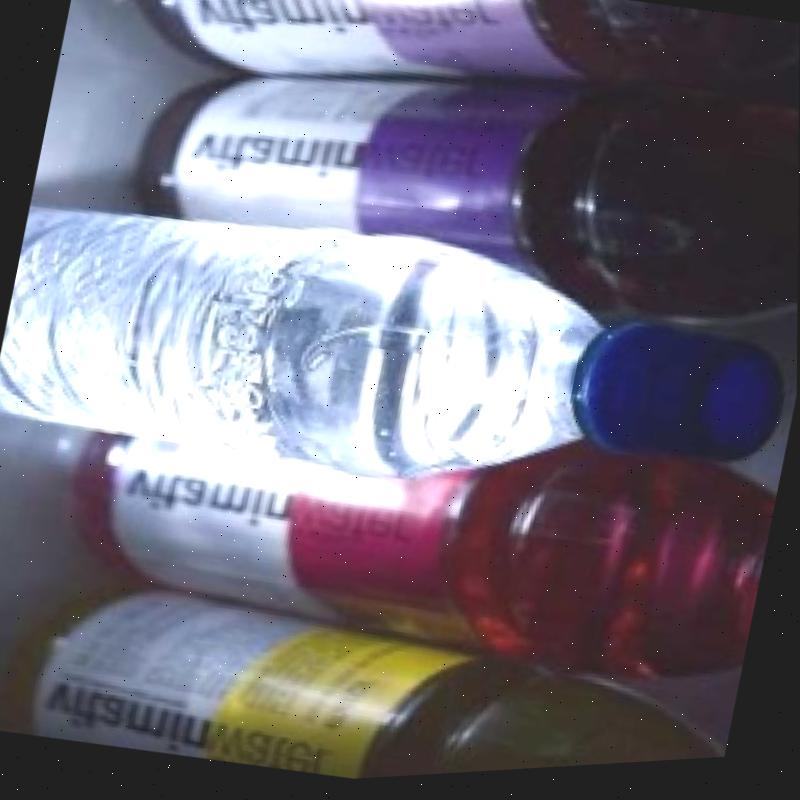botella: (0, 145, 799, 581)
